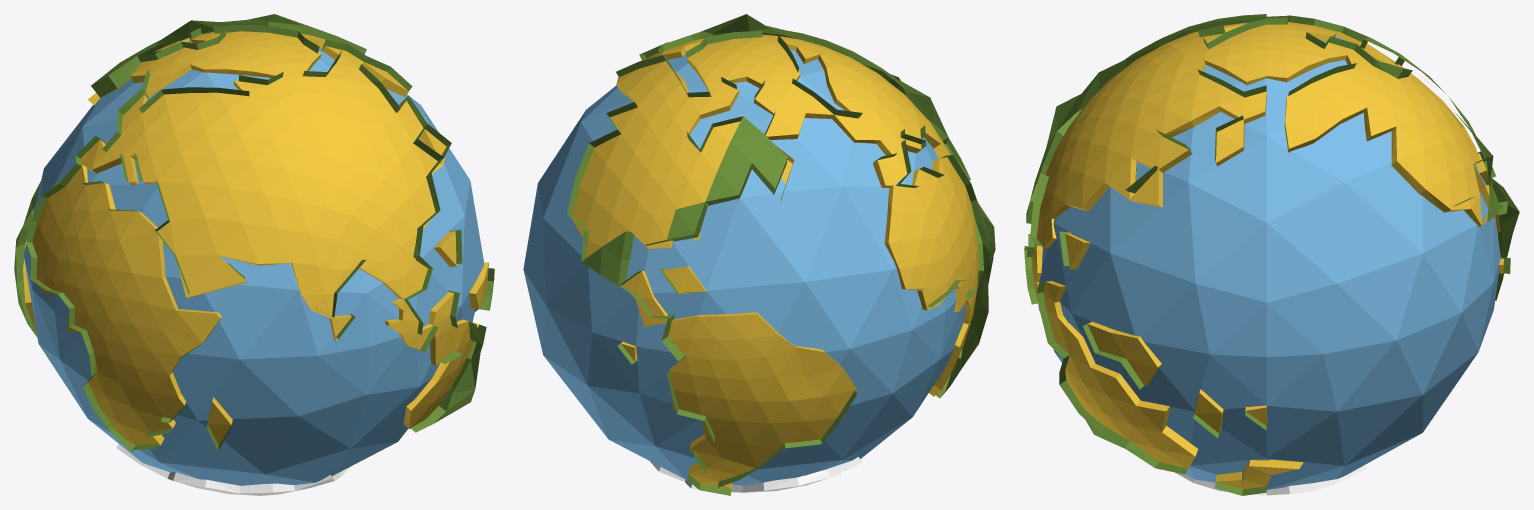
File: Earth-transformed.glb
3 renders of one model, left to right at view 1: azimuth 30°, elevation 25°; view 2: azimuth 150°, elevation 25°; view 3: azimuth 270°, elevation 25°, orthographic. The views are drawn at different scales.
Parts seen in each view (by area): view 1: Earth; view 2: Earth; view 3: Earth.
Boxes of the visible parts, bbox=[...] form: Earth: bbox=[14, 14, 494, 495]; Earth: bbox=[523, 14, 995, 495]; Earth: bbox=[1024, 14, 1519, 495].
Size of the model in its own units: 52.94 by 52.98 by 54.43.
1 material, 1 textured.
